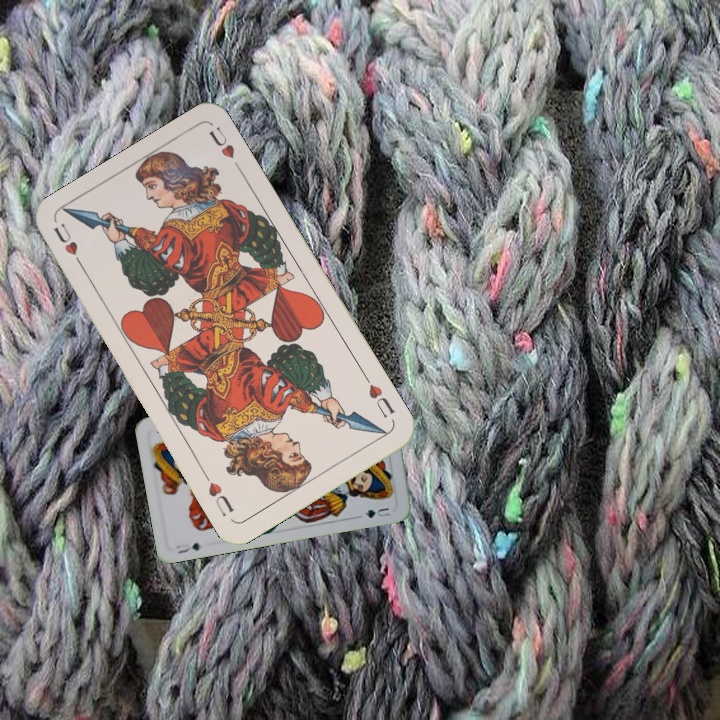GU: (172, 539, 203, 556)
HU: (49, 219, 88, 273), (360, 371, 398, 421)
